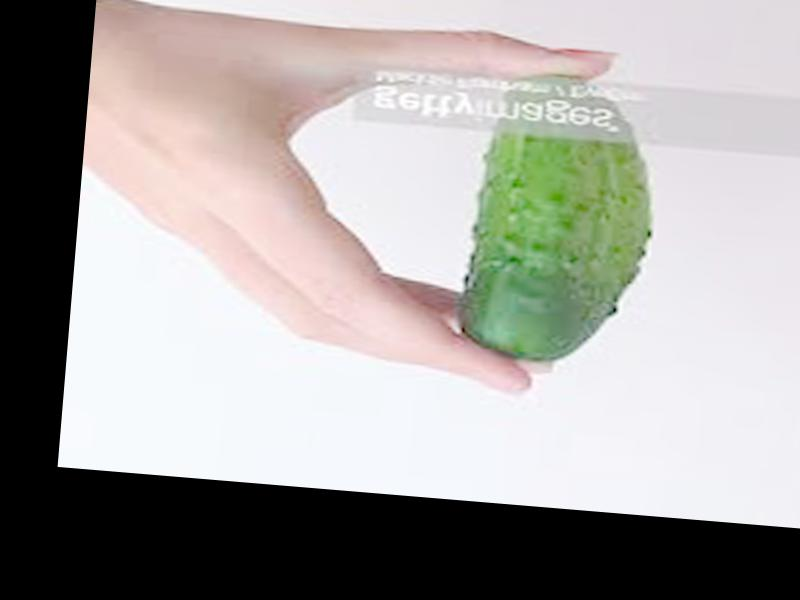Cucumber: (458, 67, 665, 370)
